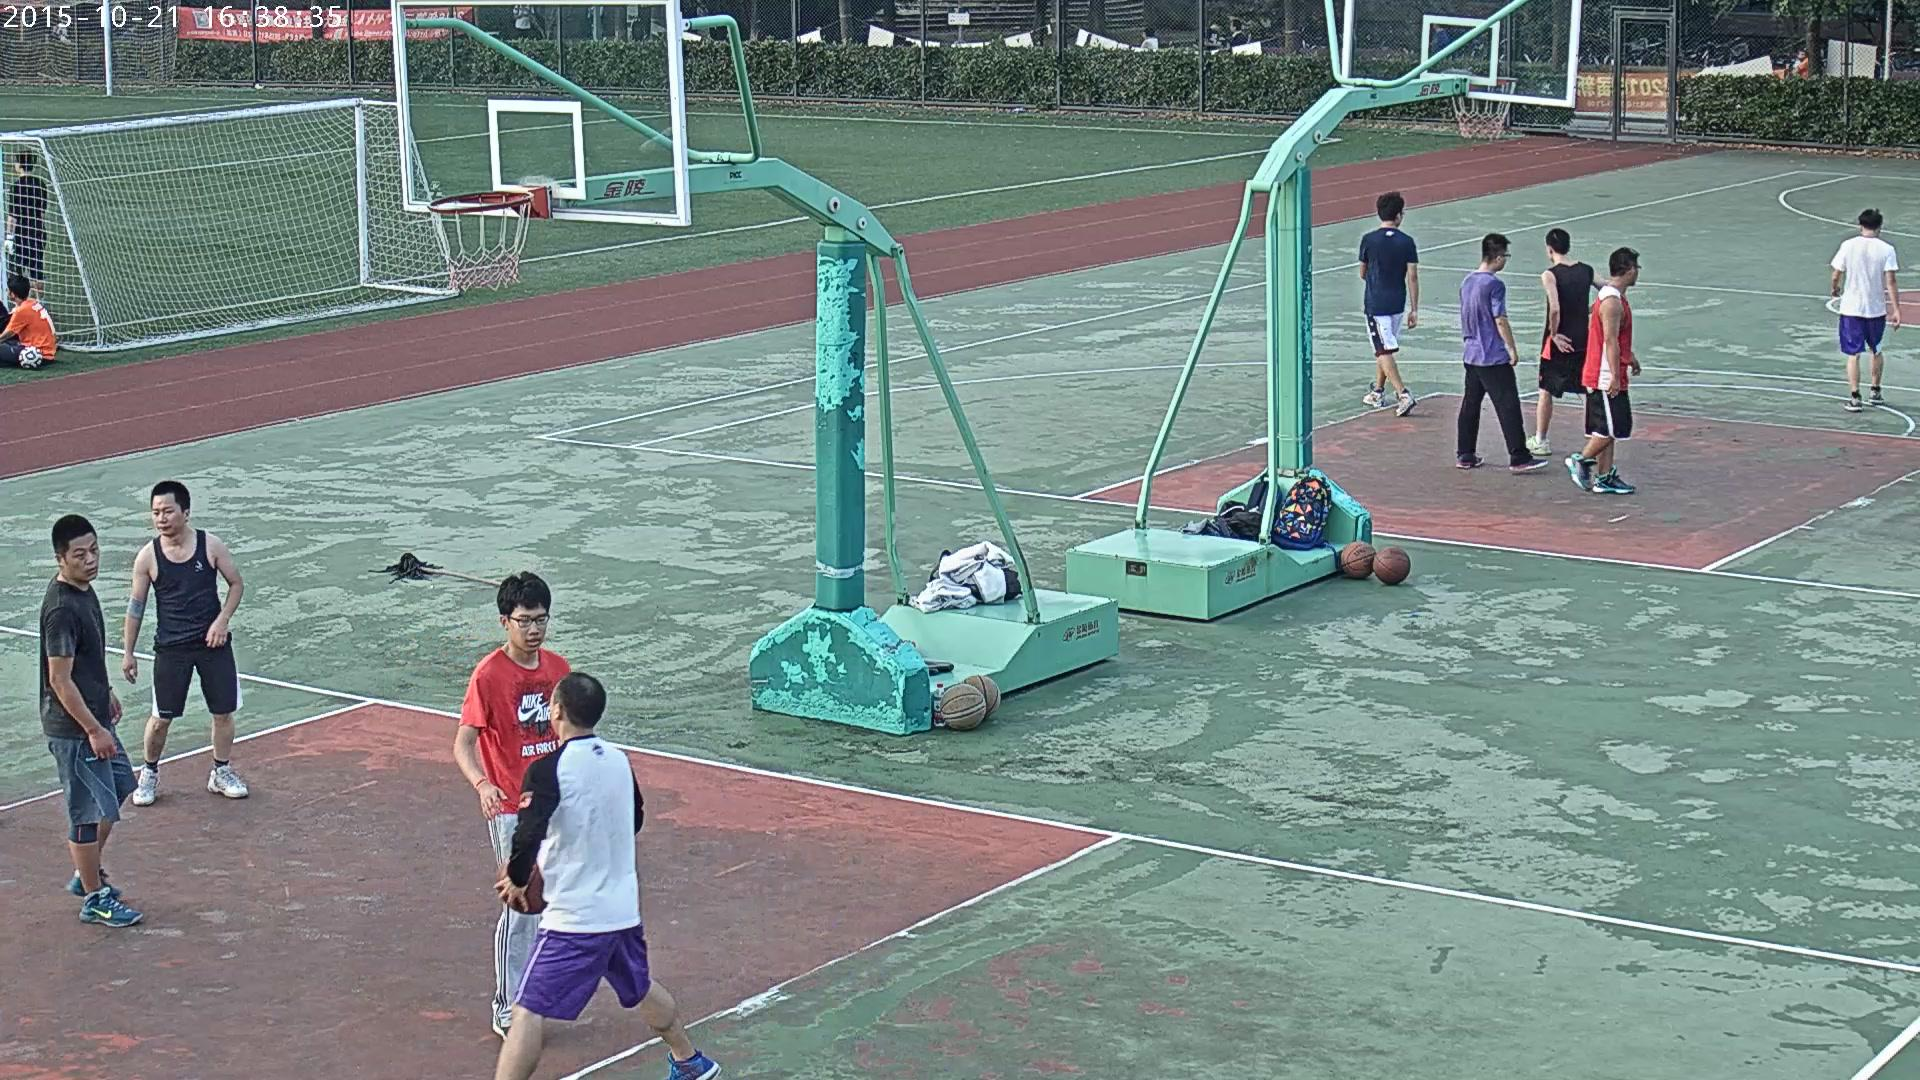face: (509, 604, 547, 652), (64, 533, 100, 582), (153, 494, 182, 536), (549, 684, 557, 734), (1629, 262, 1638, 285), (1498, 252, 1506, 270), (1396, 210, 1403, 224), (6, 284, 12, 301), (14, 157, 20, 172), (1545, 246, 1551, 260), (1797, 51, 1804, 59), (1230, 21, 1234, 31), (1214, 26, 1222, 32), (1142, 32, 1147, 38), (1433, 23, 1438, 27)
